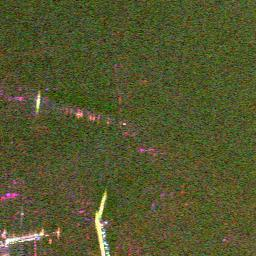Ship: (30, 91, 45, 113)
